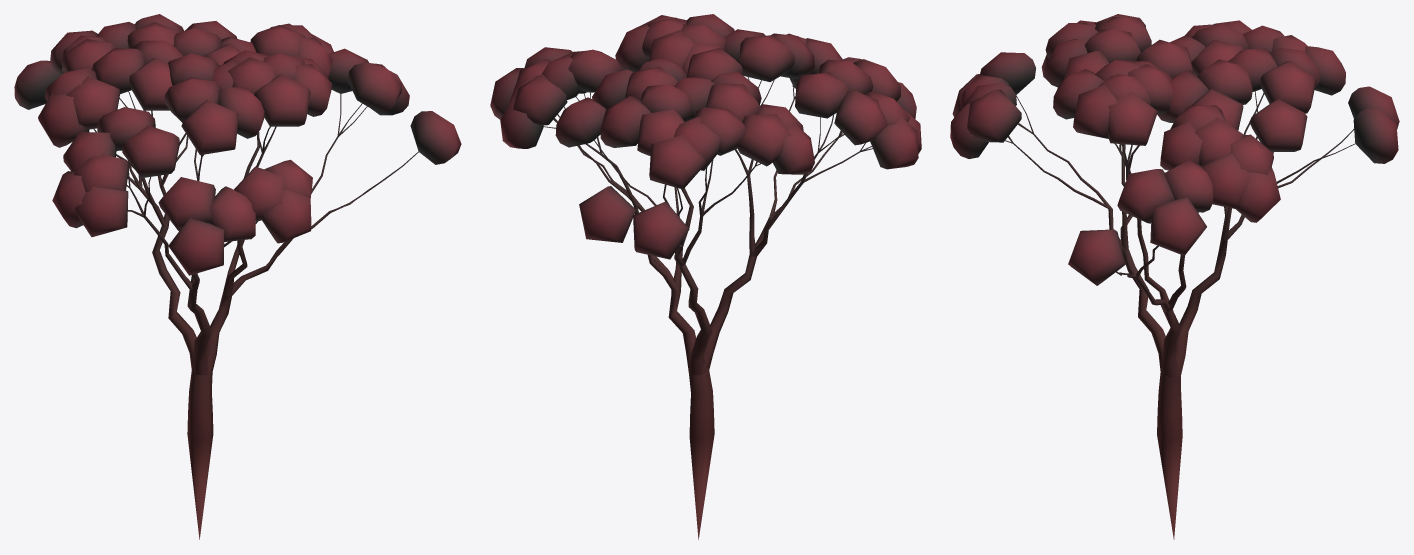
File: plants-trees-palms-red-umbrella-tree_v1.fbx
The picture shows the model from 3 angles, left to right: view 1: azimuth 30°, elevation 25°; view 2: azimuth 150°, elevation 25°; view 3: azimuth 270°, elevation 25°; orthographic projection.
Visible parts, largest first — view 1: Red Umbrella Tree_v1; view 2: Red Umbrella Tree_v1; view 3: Red Umbrella Tree_v1.
Boxes of the visible parts, x1,y1,x2,y2 form: Red Umbrella Tree_v1: (14,14,461,539); Red Umbrella Tree_v1: (490,14,921,539); Red Umbrella Tree_v1: (950,14,1399,539).
Size of the model in its own units: 4.24 by 5 by 4.12.
